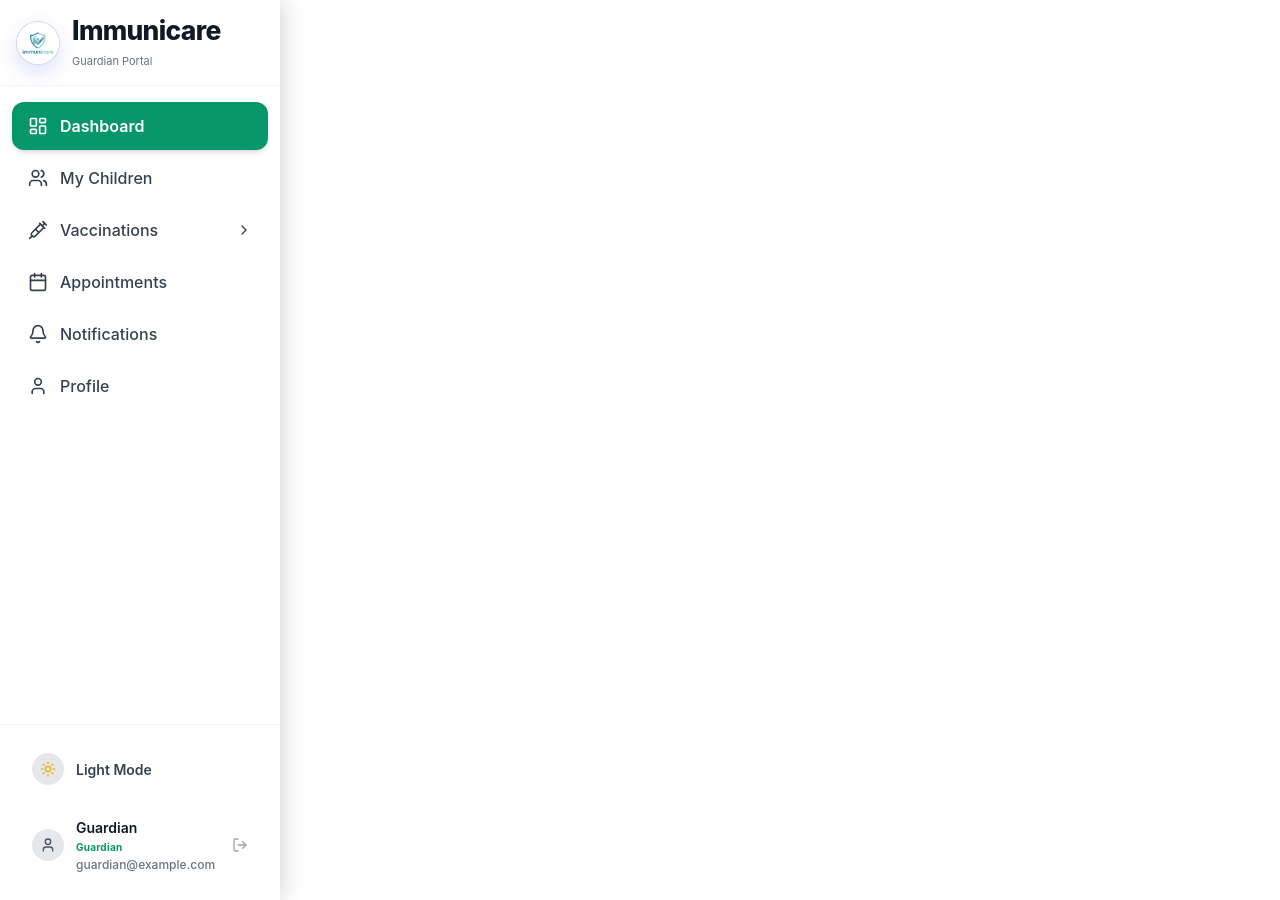
Test: GuardianSidebar logout modal dark mode › shows logout validation feedback when logout request fails
Click the button "Guardian Guardian guardian@example.com". click: (140, 844)
box: x1=16 y1=805 x2=264 y2=884
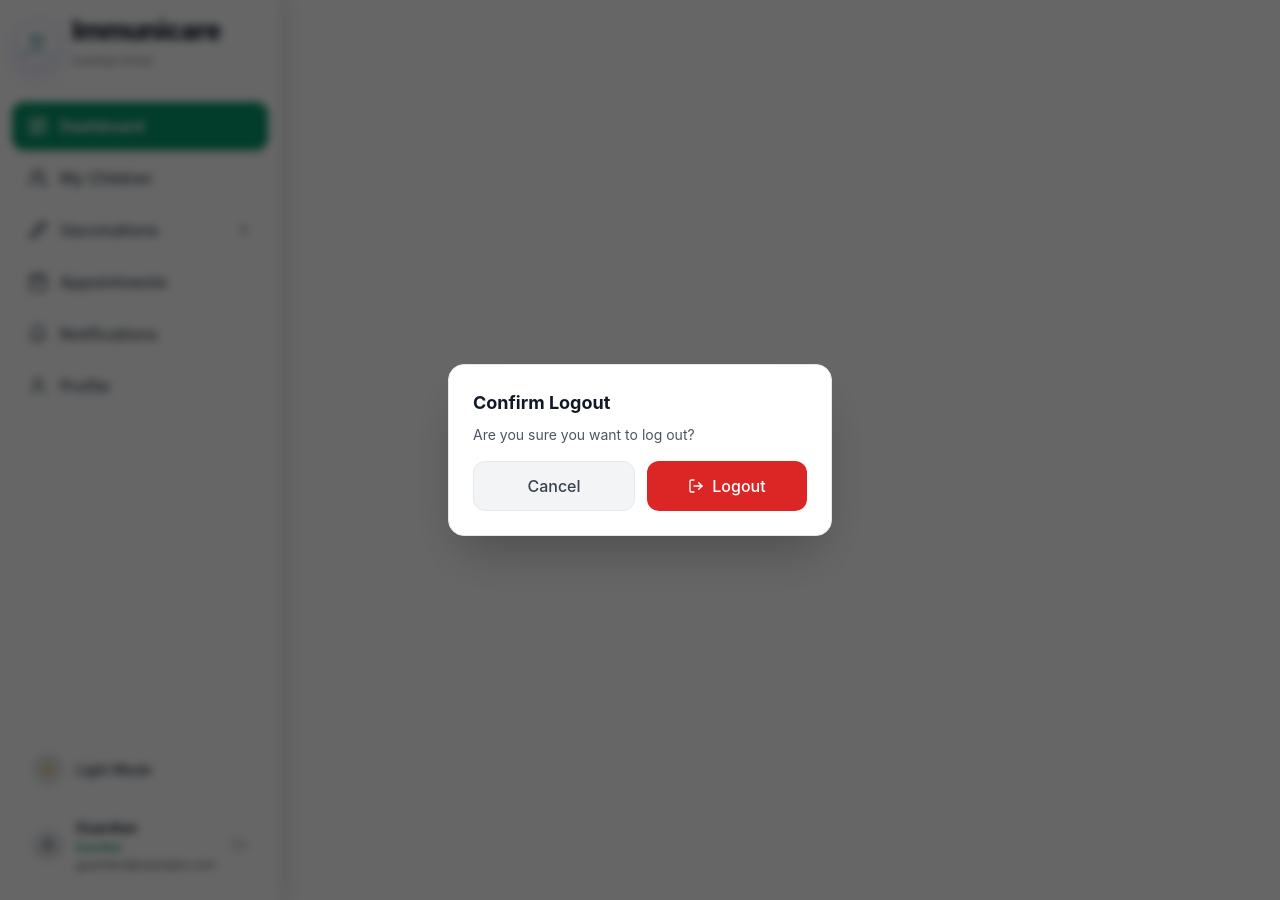
Click the button "Logout". click: (727, 486)
box: x1=647 y1=461 x2=807 y2=511
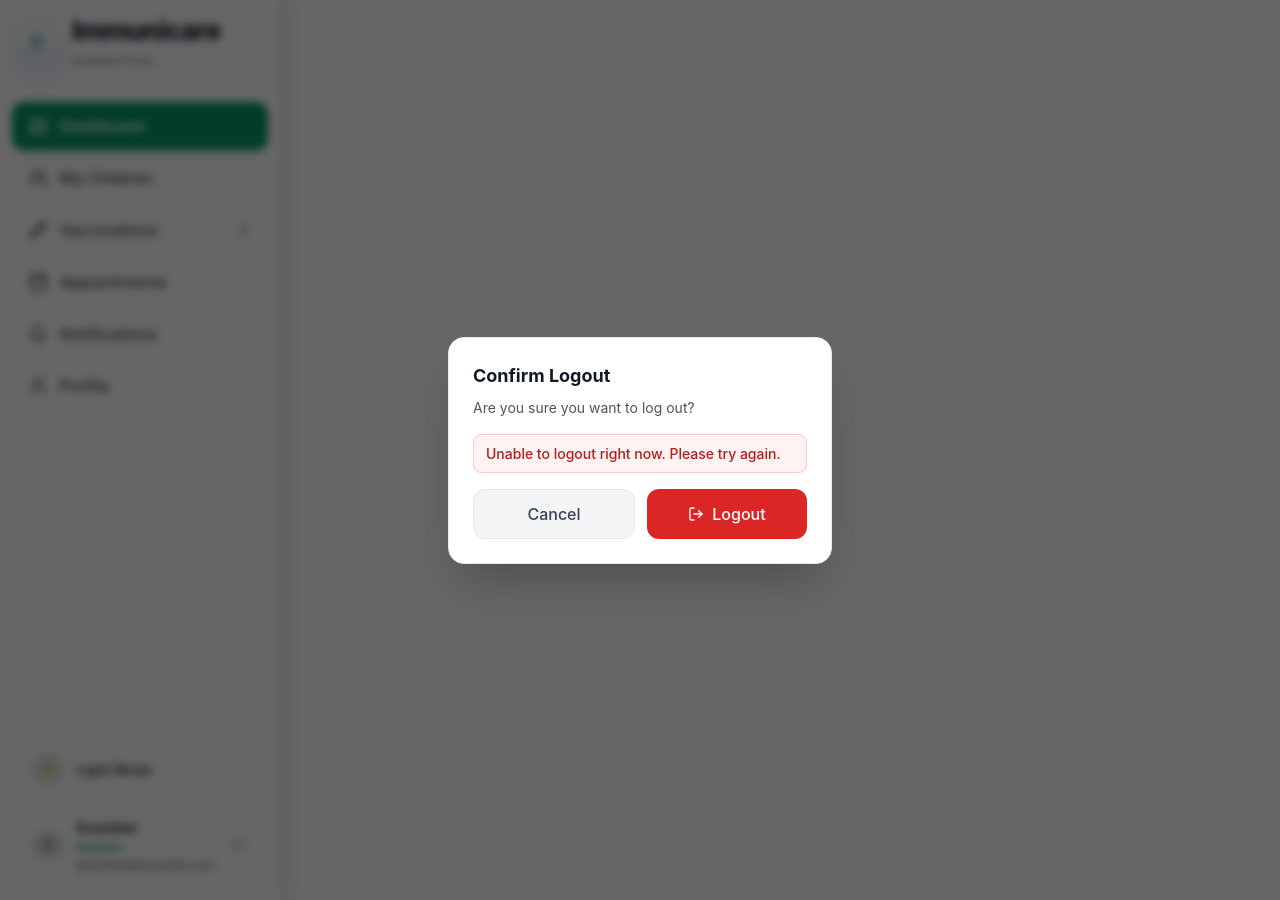
Check: the button "Logout" is enabled, box x1=647 y1=488 x2=807 y2=538
Check: the text "Unable to logout right now. Please try again." is shown, box x1=473 y1=434 x2=807 y2=472
